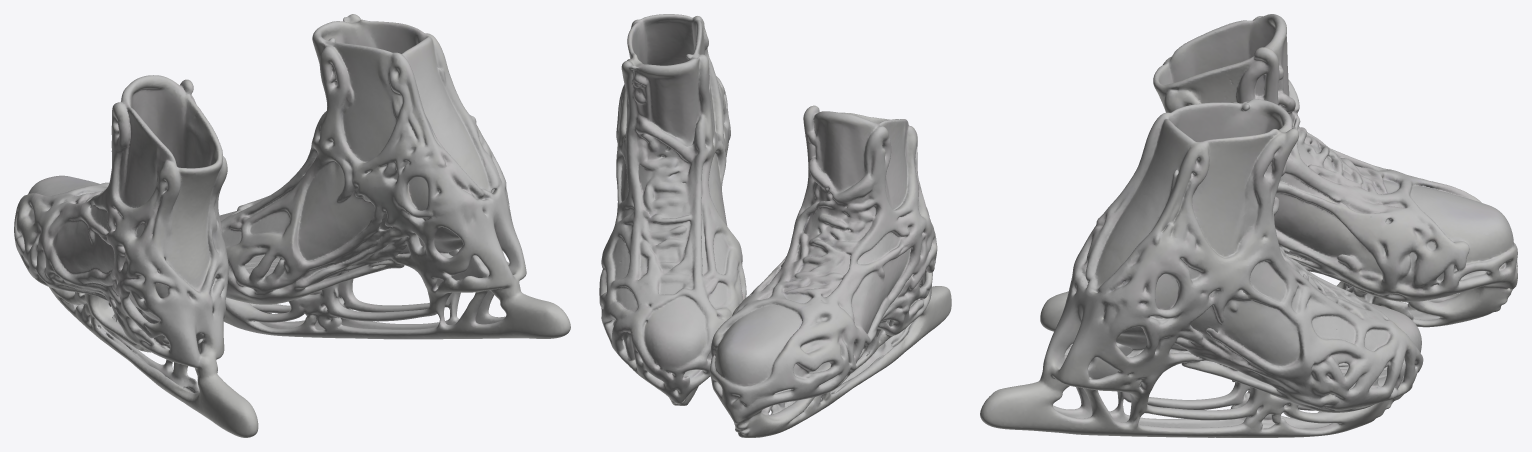
File: sport-positive.glb
3 views of the same model, side by side, from view 1: azimuth 30°, elevation 25°; view 2: azimuth 150°, elevation 25°; view 3: azimuth 270°, elevation 25° (orthographic). The views are drawn at different scales.
Visible parts, largest first — view 1: obj1; view 2: obj1; view 3: obj1.
Part boxes in pixels (x1,y1,x2,y2): obj1: (14,14,570,437); obj1: (599,14,951,437); obj1: (980,14,1517,437).
Bounding box in the file's own units: 1.09 × 0.9447 × 1.32.
1 material, 1 textured.
